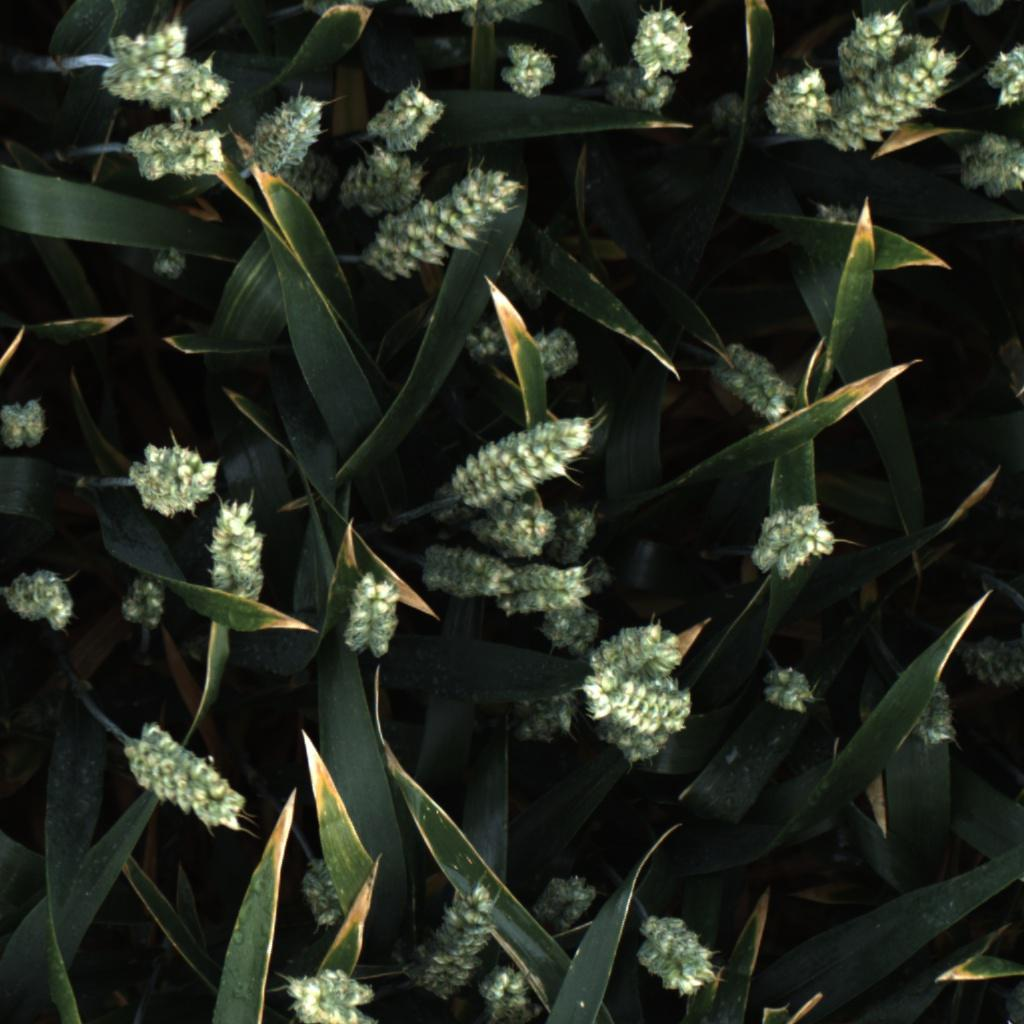0-0: (352, 164, 526, 290), (118, 122, 355, 209), (448, 405, 599, 514), (120, 717, 256, 837), (824, 46, 961, 154), (401, 874, 504, 1001), (576, 665, 695, 749), (96, 7, 192, 104), (125, 429, 218, 521), (632, 906, 726, 997), (749, 494, 840, 582), (332, 566, 411, 663), (206, 497, 274, 609), (707, 341, 794, 428), (246, 88, 328, 174), (828, 0, 908, 88), (334, 145, 428, 219), (360, 75, 449, 150), (590, 611, 684, 677), (0, 559, 80, 636), (492, 557, 594, 617), (419, 542, 518, 603), (287, 961, 381, 1024), (164, 42, 237, 121), (765, 56, 831, 141), (629, 3, 701, 80), (527, 866, 605, 936), (468, 500, 558, 559), (957, 124, 1024, 199), (754, 652, 820, 721), (536, 598, 608, 661), (907, 679, 966, 754), (510, 687, 578, 751), (474, 963, 544, 1024), (294, 854, 350, 930), (604, 65, 680, 120), (494, 40, 561, 102), (594, 714, 672, 767), (138, 234, 204, 294), (548, 498, 602, 570), (525, 323, 586, 384), (961, 632, 1024, 689), (119, 572, 172, 634), (982, 39, 1024, 116), (0, 394, 54, 451), (295, 0, 408, 21), (460, 320, 515, 363), (571, 40, 616, 89), (471, 0, 566, 23), (891, 29, 942, 71), (706, 89, 754, 131), (806, 197, 865, 230), (402, 0, 504, 19), (580, 558, 618, 598), (955, 0, 1024, 22), (672, 1009, 757, 1024)
